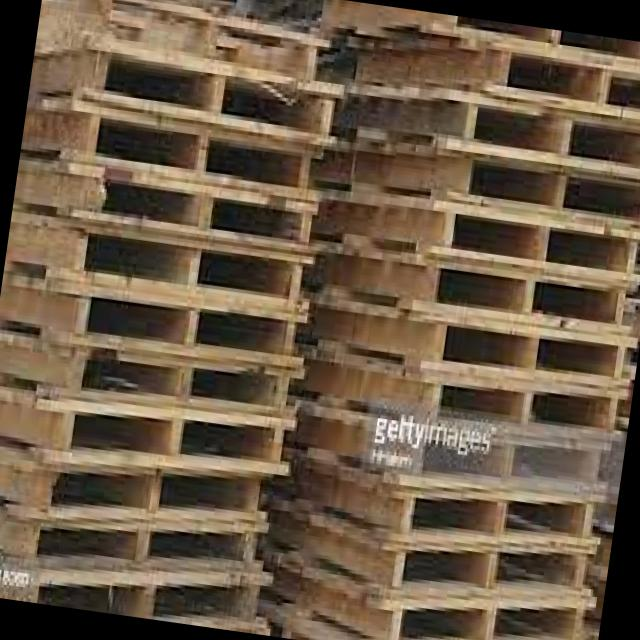Wooden-Pallets: (55, 207, 320, 313), (83, 45, 341, 153), (49, 339, 310, 422), (30, 460, 286, 527), (436, 203, 640, 275), (460, 94, 640, 174), (390, 538, 597, 607)
